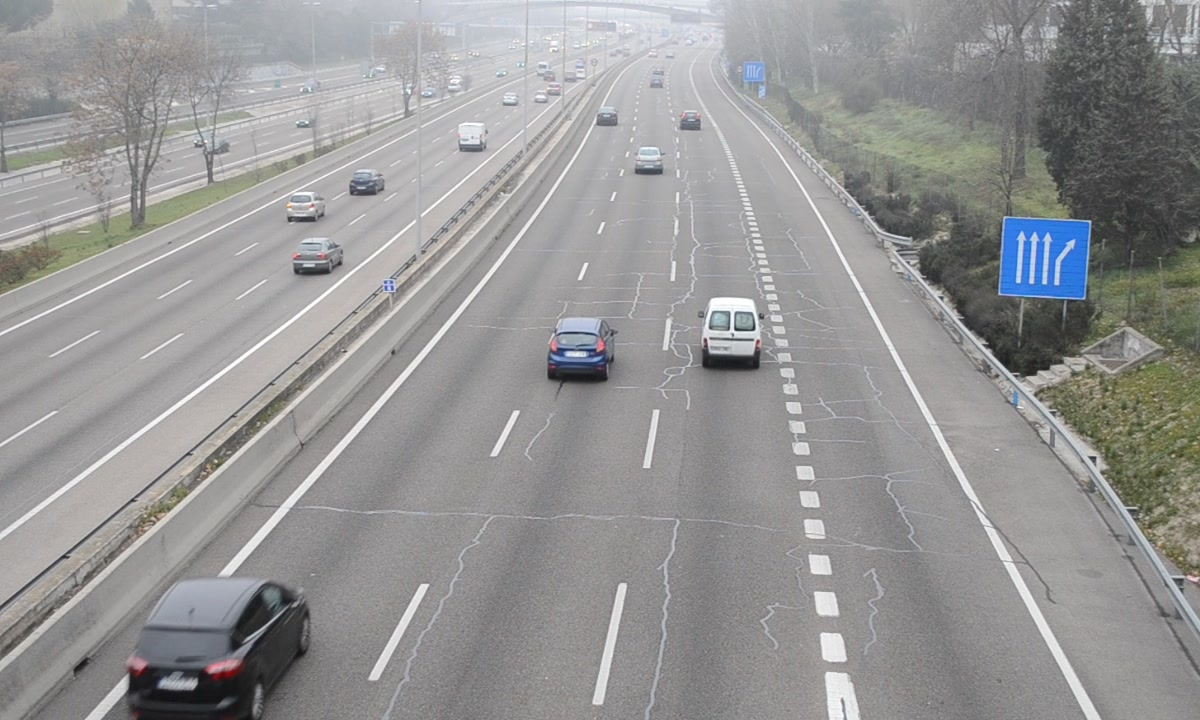car: (125, 581, 306, 720), (547, 319, 615, 381), (634, 147, 663, 173), (596, 105, 619, 128), (679, 110, 703, 131)
van: (701, 299, 762, 368)
